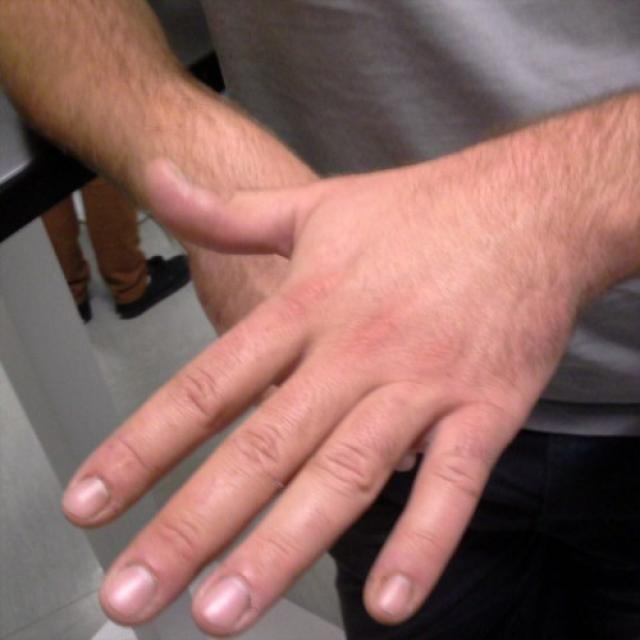paper: (59, 151, 552, 632)
